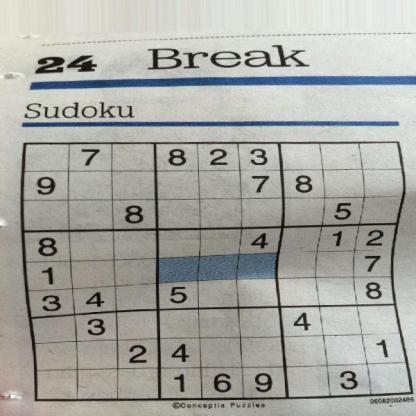sudoku: (18, 136, 416, 407)
